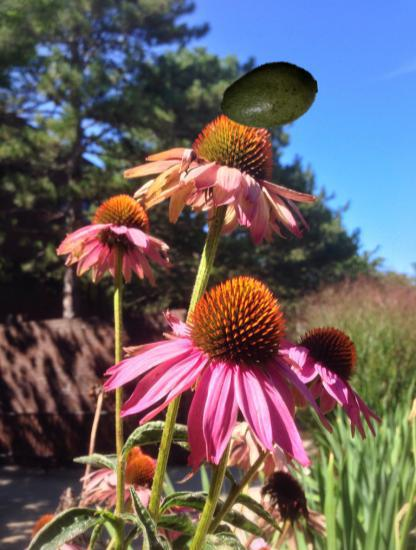Avocado: (220, 46, 318, 144)
